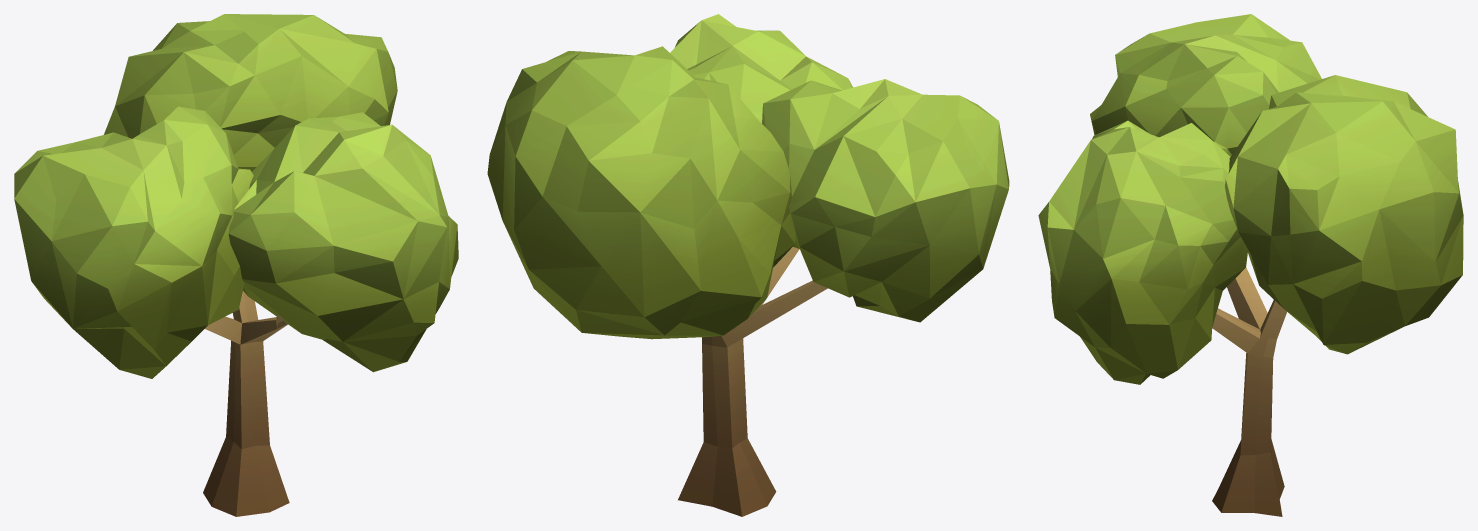
The model's file is pack01_foliage_01.fbx.
3 views of the same model, side by side, from view 1: azimuth 30°, elevation 25°; view 2: azimuth 150°, elevation 25°; view 3: azimuth 270°, elevation 25° (orthographic). The views are drawn at different scales.
Visible parts, largest first — view 1: Tree_average_lush; view 2: Tree_average_lush; view 3: Tree_average_lush.
Boxes of the visible parts, <box> form: Tree_average_lush: <box>14,14,458,516</box>; Tree_average_lush: <box>487,14,1009,516</box>; Tree_average_lush: <box>1038,14,1463,516</box>.
Size of the model in its own units: 1467 by 1466 by 1324.
Materials: 1 (1 with a texture image).
